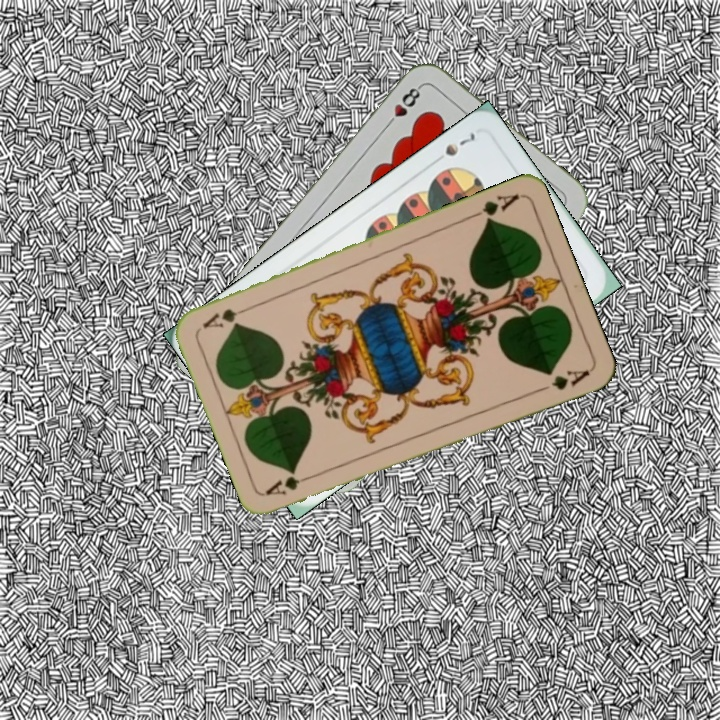GA: (466, 190, 522, 226), (262, 469, 320, 498)
H8: (381, 81, 424, 130)
S7: (428, 128, 478, 167)
